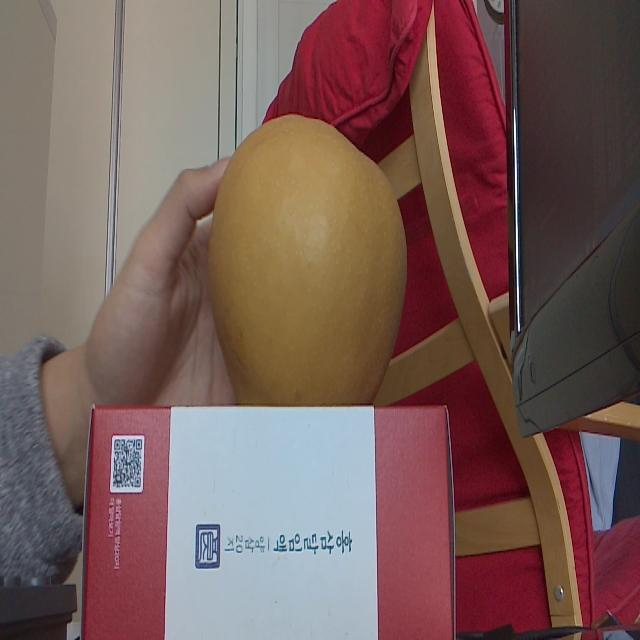pear: (211, 114, 407, 406)
